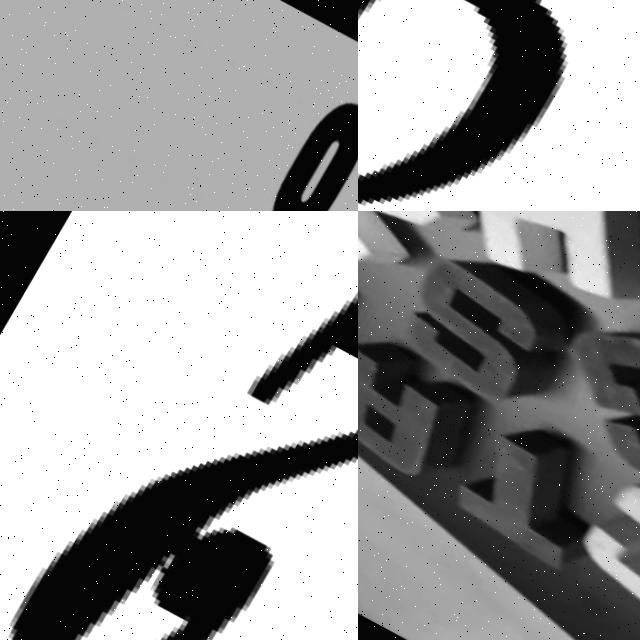0: (232, 75, 358, 211)
2: (0, 211, 358, 640)
A: (358, 313, 502, 495)
C: (560, 442, 640, 640)
G: (533, 279, 640, 522)
H: (389, 211, 640, 340)
Q: (358, 0, 640, 211)
S: (376, 231, 594, 418)
T: (432, 393, 640, 587)
Z: (358, 211, 493, 295)
